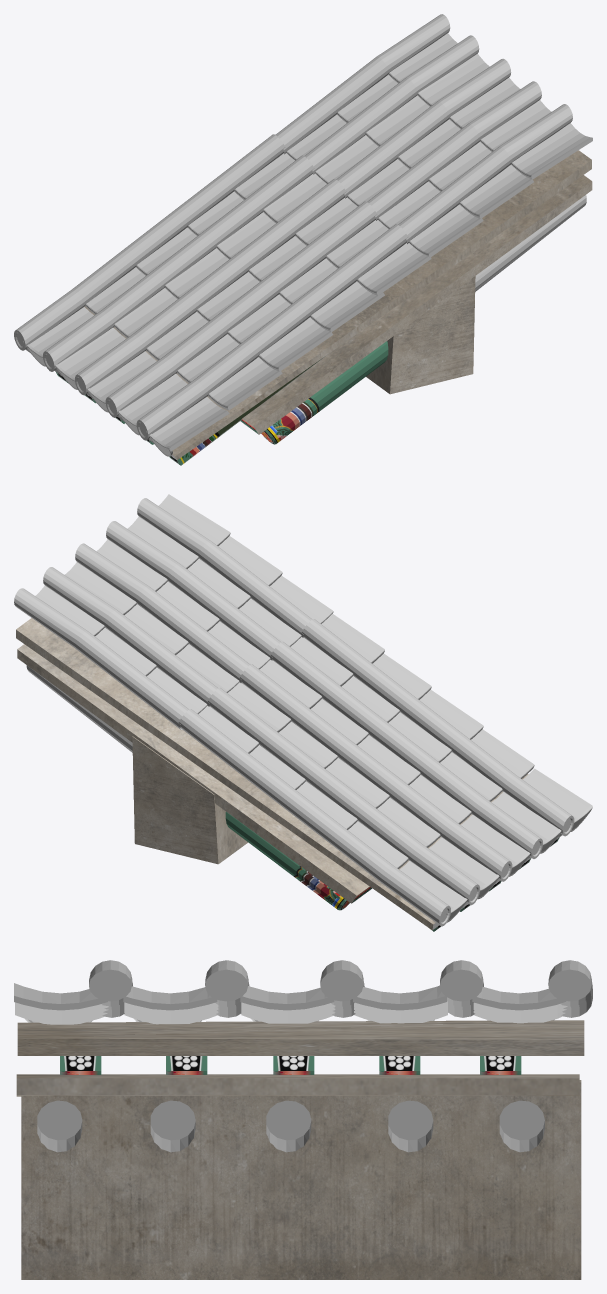
Rendered from SM_Roof_25.fbx.
3 renders of one model, top to bottom at view 1: azimuth 30°, elevation 25°; view 2: azimuth 150°, elevation 25°; view 3: azimuth 270°, elevation 25°, orthographic. The views are drawn at different scales.
Parts seen in each view (by area): view 1: SM_Roof_25; view 2: SM_Roof_25; view 3: SM_Roof_25.
Part boxes in pixels (x1=…): SM_Roof_25: x1=14, y1=14, x2=592, y2=465; SM_Roof_25: x1=14, y1=494, x2=592, y2=931; SM_Roof_25: x1=14, y1=960, x2=592, y2=1279.
Bounding box in the file's own units: 538 × 339 × 306.
